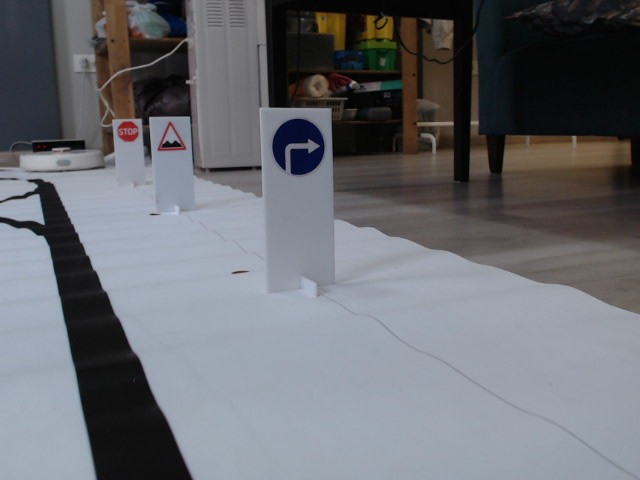Nerov: (157, 120, 186, 151)
Right: (271, 117, 326, 178)
Stop: (116, 121, 140, 142)
